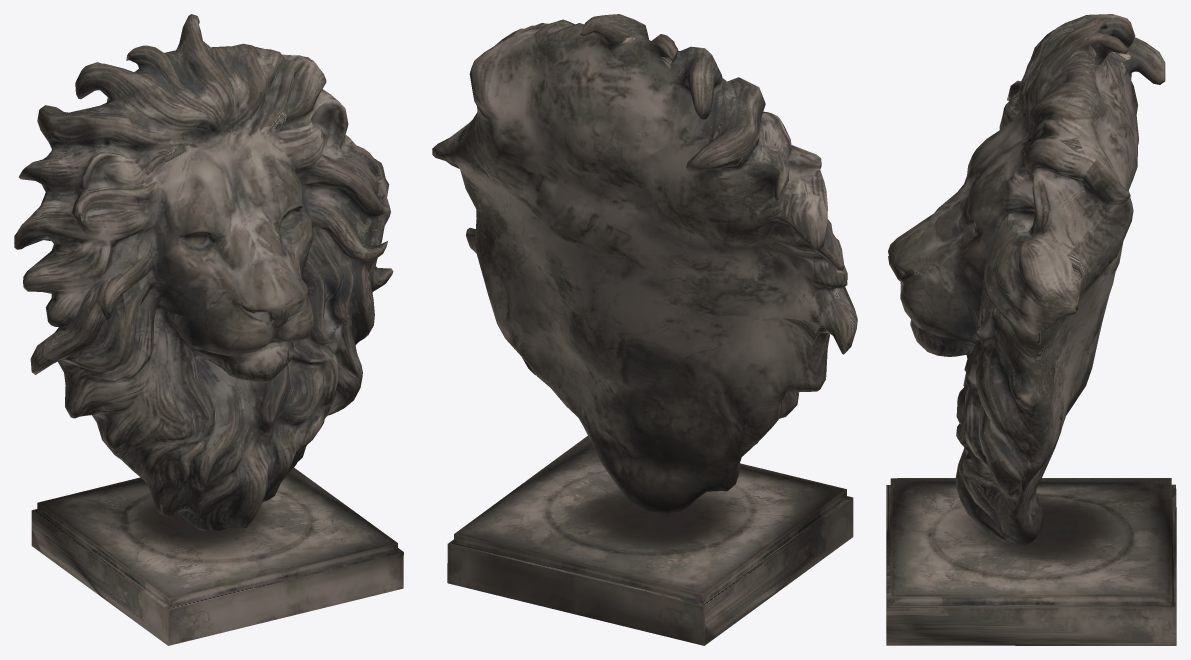
Rendered from lion_head.glb.
The picture shows the model from 3 angles, left to right: view 1: azimuth 30°, elevation 25°; view 2: azimuth 150°, elevation 25°; view 3: azimuth 270°, elevation 25°; orthographic projection. The views are drawn at different scales.
Parts seen in each view (by area): view 1: lion_head; view 2: lion_head; view 3: lion_head.
Part boxes in pixels (bbox=[...]): lion_head: bbox=[14, 14, 403, 645]; lion_head: bbox=[432, 14, 857, 645]; lion_head: bbox=[886, 14, 1176, 645].
Bounding box in the file's own units: 0.3207 × 0.4357 × 0.2066.
1 material, 1 textured.
